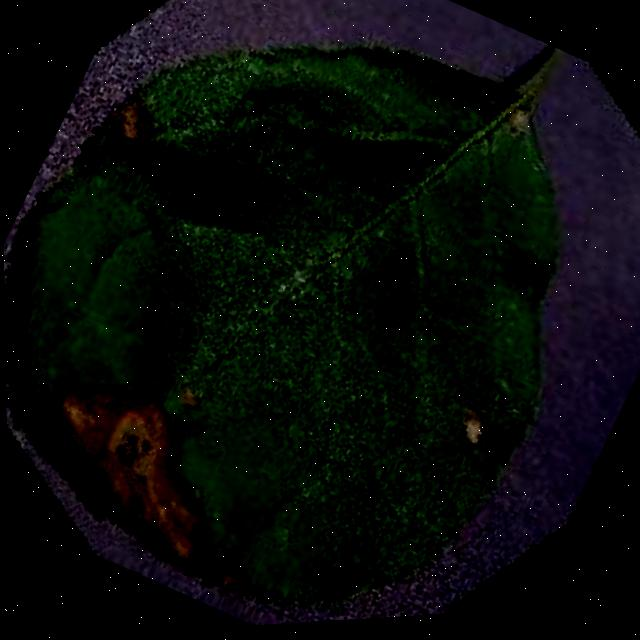black_rot: (5, 344, 308, 628), (82, 67, 181, 184), (427, 386, 507, 478)
